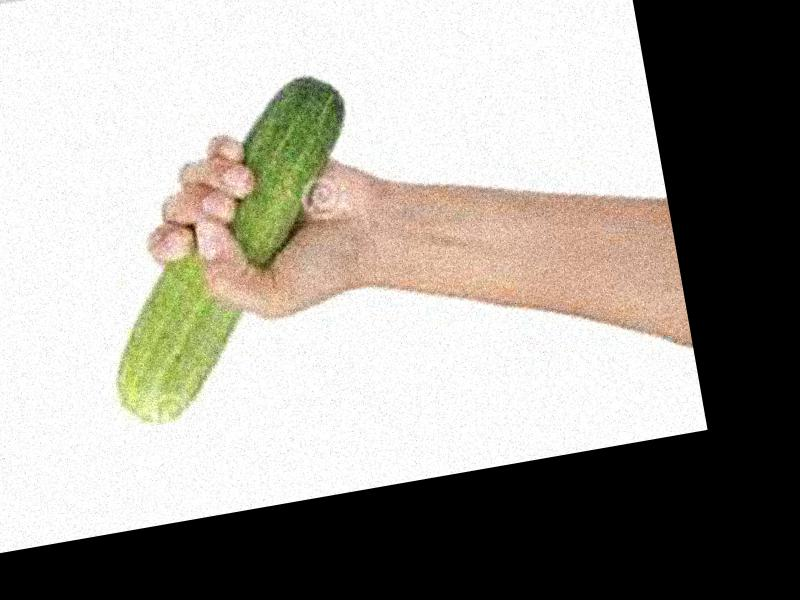Cucumber: (70, 69, 398, 426)
